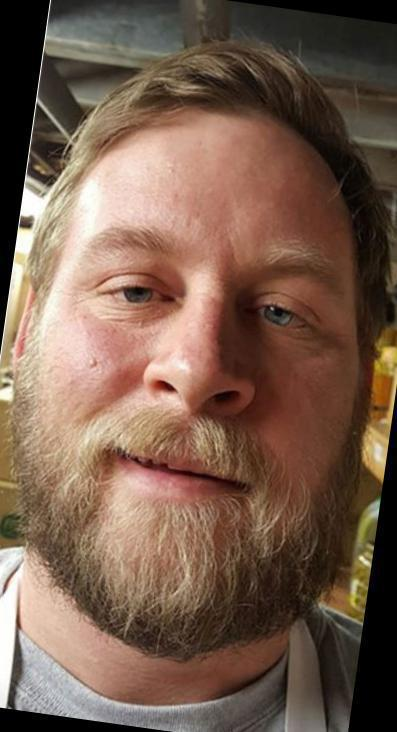Drunk: (52, 140, 345, 586)
